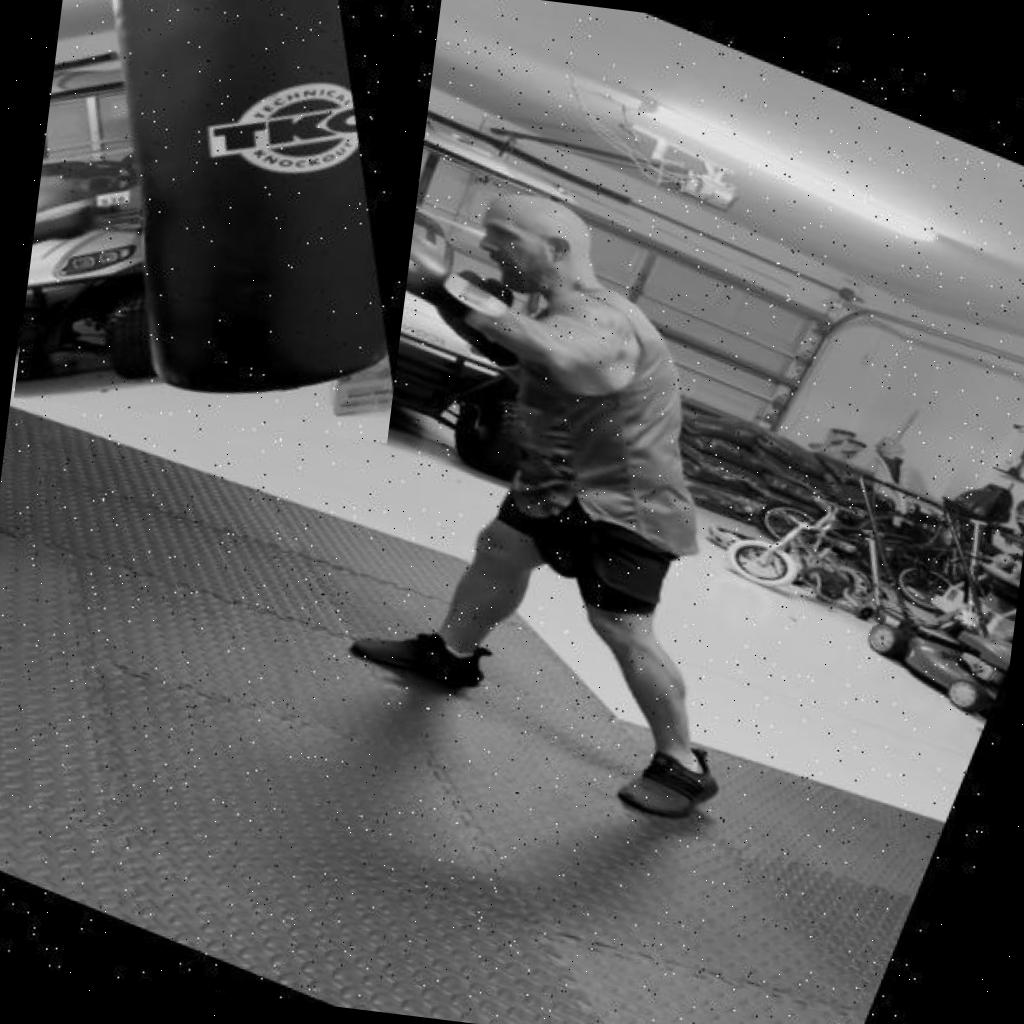bag: (13, 0, 442, 443)
cross: (278, 106, 727, 432)
